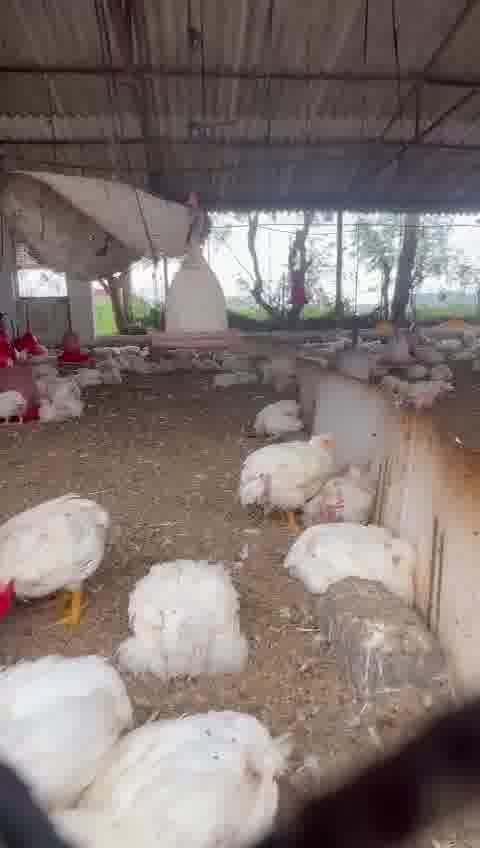AbNormal: (126, 558, 250, 677), (287, 523, 415, 586)
Normal: (0, 488, 116, 629), (241, 429, 336, 531)
